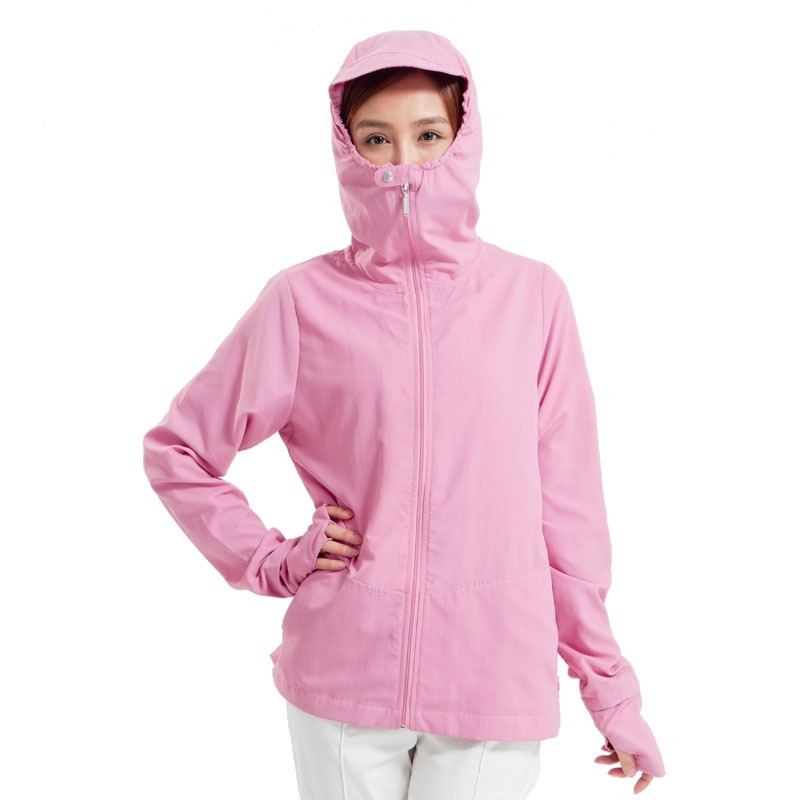face: (344, 75, 456, 226)
